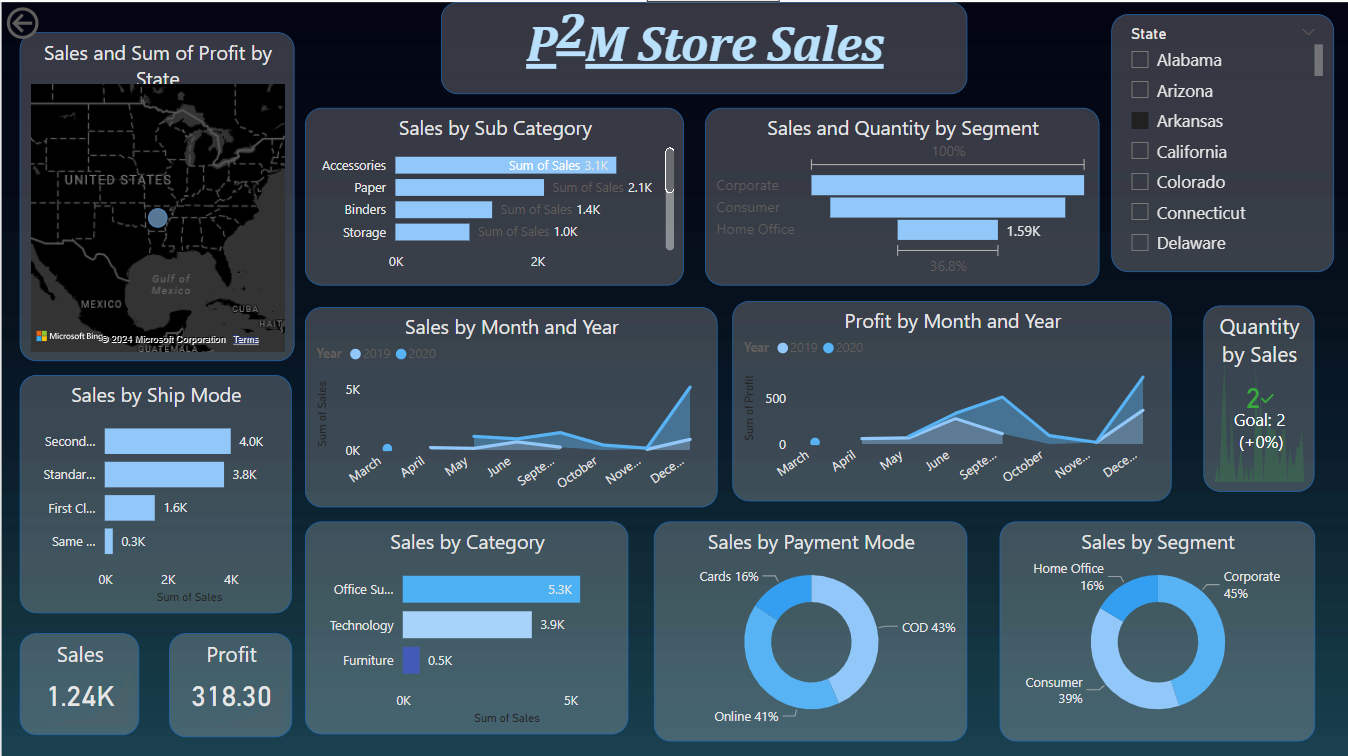

This screenshot's page, from the dashboard's own definition file:
{"tool":"powerbi","page":{"name":"Page 1","canvas":[1280,720],"ordinal":0},"visuals":[{"type":"clusteredBarChart","title":"Sales by Category","fields":{"Category":["SuperStore_Sales_Dataset.Category"],"Y":["Sum(SuperStore_Sales_Dataset.Sales)"]},"box":[288.3,493.3,306.7,201.7],"z":0},{"type":"clusteredBarChart","title":"Sales by Sub Category","fields":{"Category":["SuperStore_Sales_Dataset.Sub-Category"],"Y":["Sum(SuperStore_Sales_Dataset.Sales)"]},"box":[287.9,100.2,359.5,168.6],"z":1000},{"type":"clusteredBarChart","title":"Sales by Ship Mode","fields":{"Y":["Sum(SuperStore_Sales_Dataset.Sales)"],"Category":["SuperStore_Sales_Dataset.Ship Mode"]},"box":[17.5,353.1,257.7,225.9],"z":2000},{"type":"stackedAreaChart","title":"Sales by Month and Year","fields":{"Y":["Sum(SuperStore_Sales_Dataset.Sales)"],"Series":["SuperStore_Sales_Dataset.Order Date.Variation.Date Hierarchy.Year"],"Category":["SuperStore_Sales_Dataset.Order Date.Variation.Date Hierarchy.Month"]},"box":[288,289,391,190],"z":3000},{"type":"stackedAreaChart","title":"Profit by Month and Year","fields":{"Series":["SuperStore_Sales_Dataset.Order Date.Variation.Date Hierarchy.Year"],"Category":["SuperStore_Sales_Dataset.Order Date.Variation.Date Hierarchy.Month"],"Y":["Sum(SuperStore_Sales_Dataset.Profit)"]},"box":[693.3,283.3,416.7,190],"z":4000},{"type":"map","title":" Sales and Sum of Profit by State","fields":{"Category":["SuperStore_Sales_Dataset.State"],"Size":["Sum(SuperStore_Sales_Dataset.Sales)"]},"box":[15.9,6.4,260.9,311.8],"z":5000},{"type":"donutChart","title":"Sales by Segment","fields":{"Category":["SuperStore_Sales_Dataset.Segment"],"Y":["Sum(SuperStore_Sales_Dataset.Sales)"]},"box":[946.4,493.1,299,208.4],"z":6000},{"type":"donutChart","title":"Sales by Payment Mode","fields":{"Category":["SuperStore_Sales_Dataset.Payment Mode"],"Y":["Sum(SuperStore_Sales_Dataset.Sales)"]},"box":[618.7,493.1,297.4,208.4],"z":7000},{"type":"textbox","box":[416.7,0,499.5,87.5],"z":8000},{"type":"kpi","title":"Sales","fields":{"Indicator":["Sum(SuperStore_Sales_Dataset.Sales)"],"TrendLine":["SuperStore_Sales_Dataset.Sales"]},"box":[16.7,598.3,113.3,96.7],"z":9000},{"type":"kpi","title":"Profit","fields":{"Indicator":["Sum(SuperStore_Sales_Dataset.Profit)"],"TrendLine":["SuperStore_Sales_Dataset.Profit"]},"box":[158.3,598.3,116.7,98.3],"z":10000},{"type":"slicer","fields":{"Values":["SuperStore_Sales_Dataset.State"]},"box":[1053,11.1,211.6,245],"z":11000},{"type":"funnel","title":"Sales and Quantity by Segment","fields":{"Category":["SuperStore_Sales_Dataset.Segment"],"Y":["Sum(SuperStore_Sales_Dataset.Sales)"]},"box":[668.1,100.2,373.8,168.6],"z":12000},{"type":"kpi","title":"Quantity by Sales","fields":{"Indicator":["Sum(SuperStore_Sales_Dataset.Quantity)"],"TrendLine":["SuperStore_Sales_Dataset.Sales"],"Goal":["Sum(SuperStore_Sales_Dataset.Quantity)"]},"box":[1140,288.3,105,176.7],"z":13000},{"type":"actionButton","box":[0,0,100,40],"z":14000}]}

Visuals, with their boxes in screenshot pixels (x1, y1, x2, y2), scaled from the page's 1280x720 canvas onto the 1348x756 screenshot:
"Sales by Category" clusteredBarChart: (304,518,627,730)
"Sales by Sub Category" clusteredBarChart: (303,105,682,282)
"Sales by Ship Mode" clusteredBarChart: (18,371,290,608)
"Sales by Month and Year" stackedAreaChart: (303,303,715,503)
"Profit by Month and Year" stackedAreaChart: (730,297,1169,497)
" Sales and Sum of Profit by State" map: (17,7,292,334)
"Sales by Segment" donutChart: (997,518,1312,737)
"Sales by Payment Mode" donutChart: (652,518,965,737)
textbox: (439,0,965,92)
"Sales" kpi: (18,628,137,730)
"Profit" kpi: (167,628,290,731)
slicer - SuperStore_Sales_Dataset.State: (1109,12,1332,269)
"Sales and Quantity by Segment" funnel: (704,105,1097,282)
"Quantity by Sales" kpi: (1201,303,1311,488)
actionButton: (0,0,105,42)
